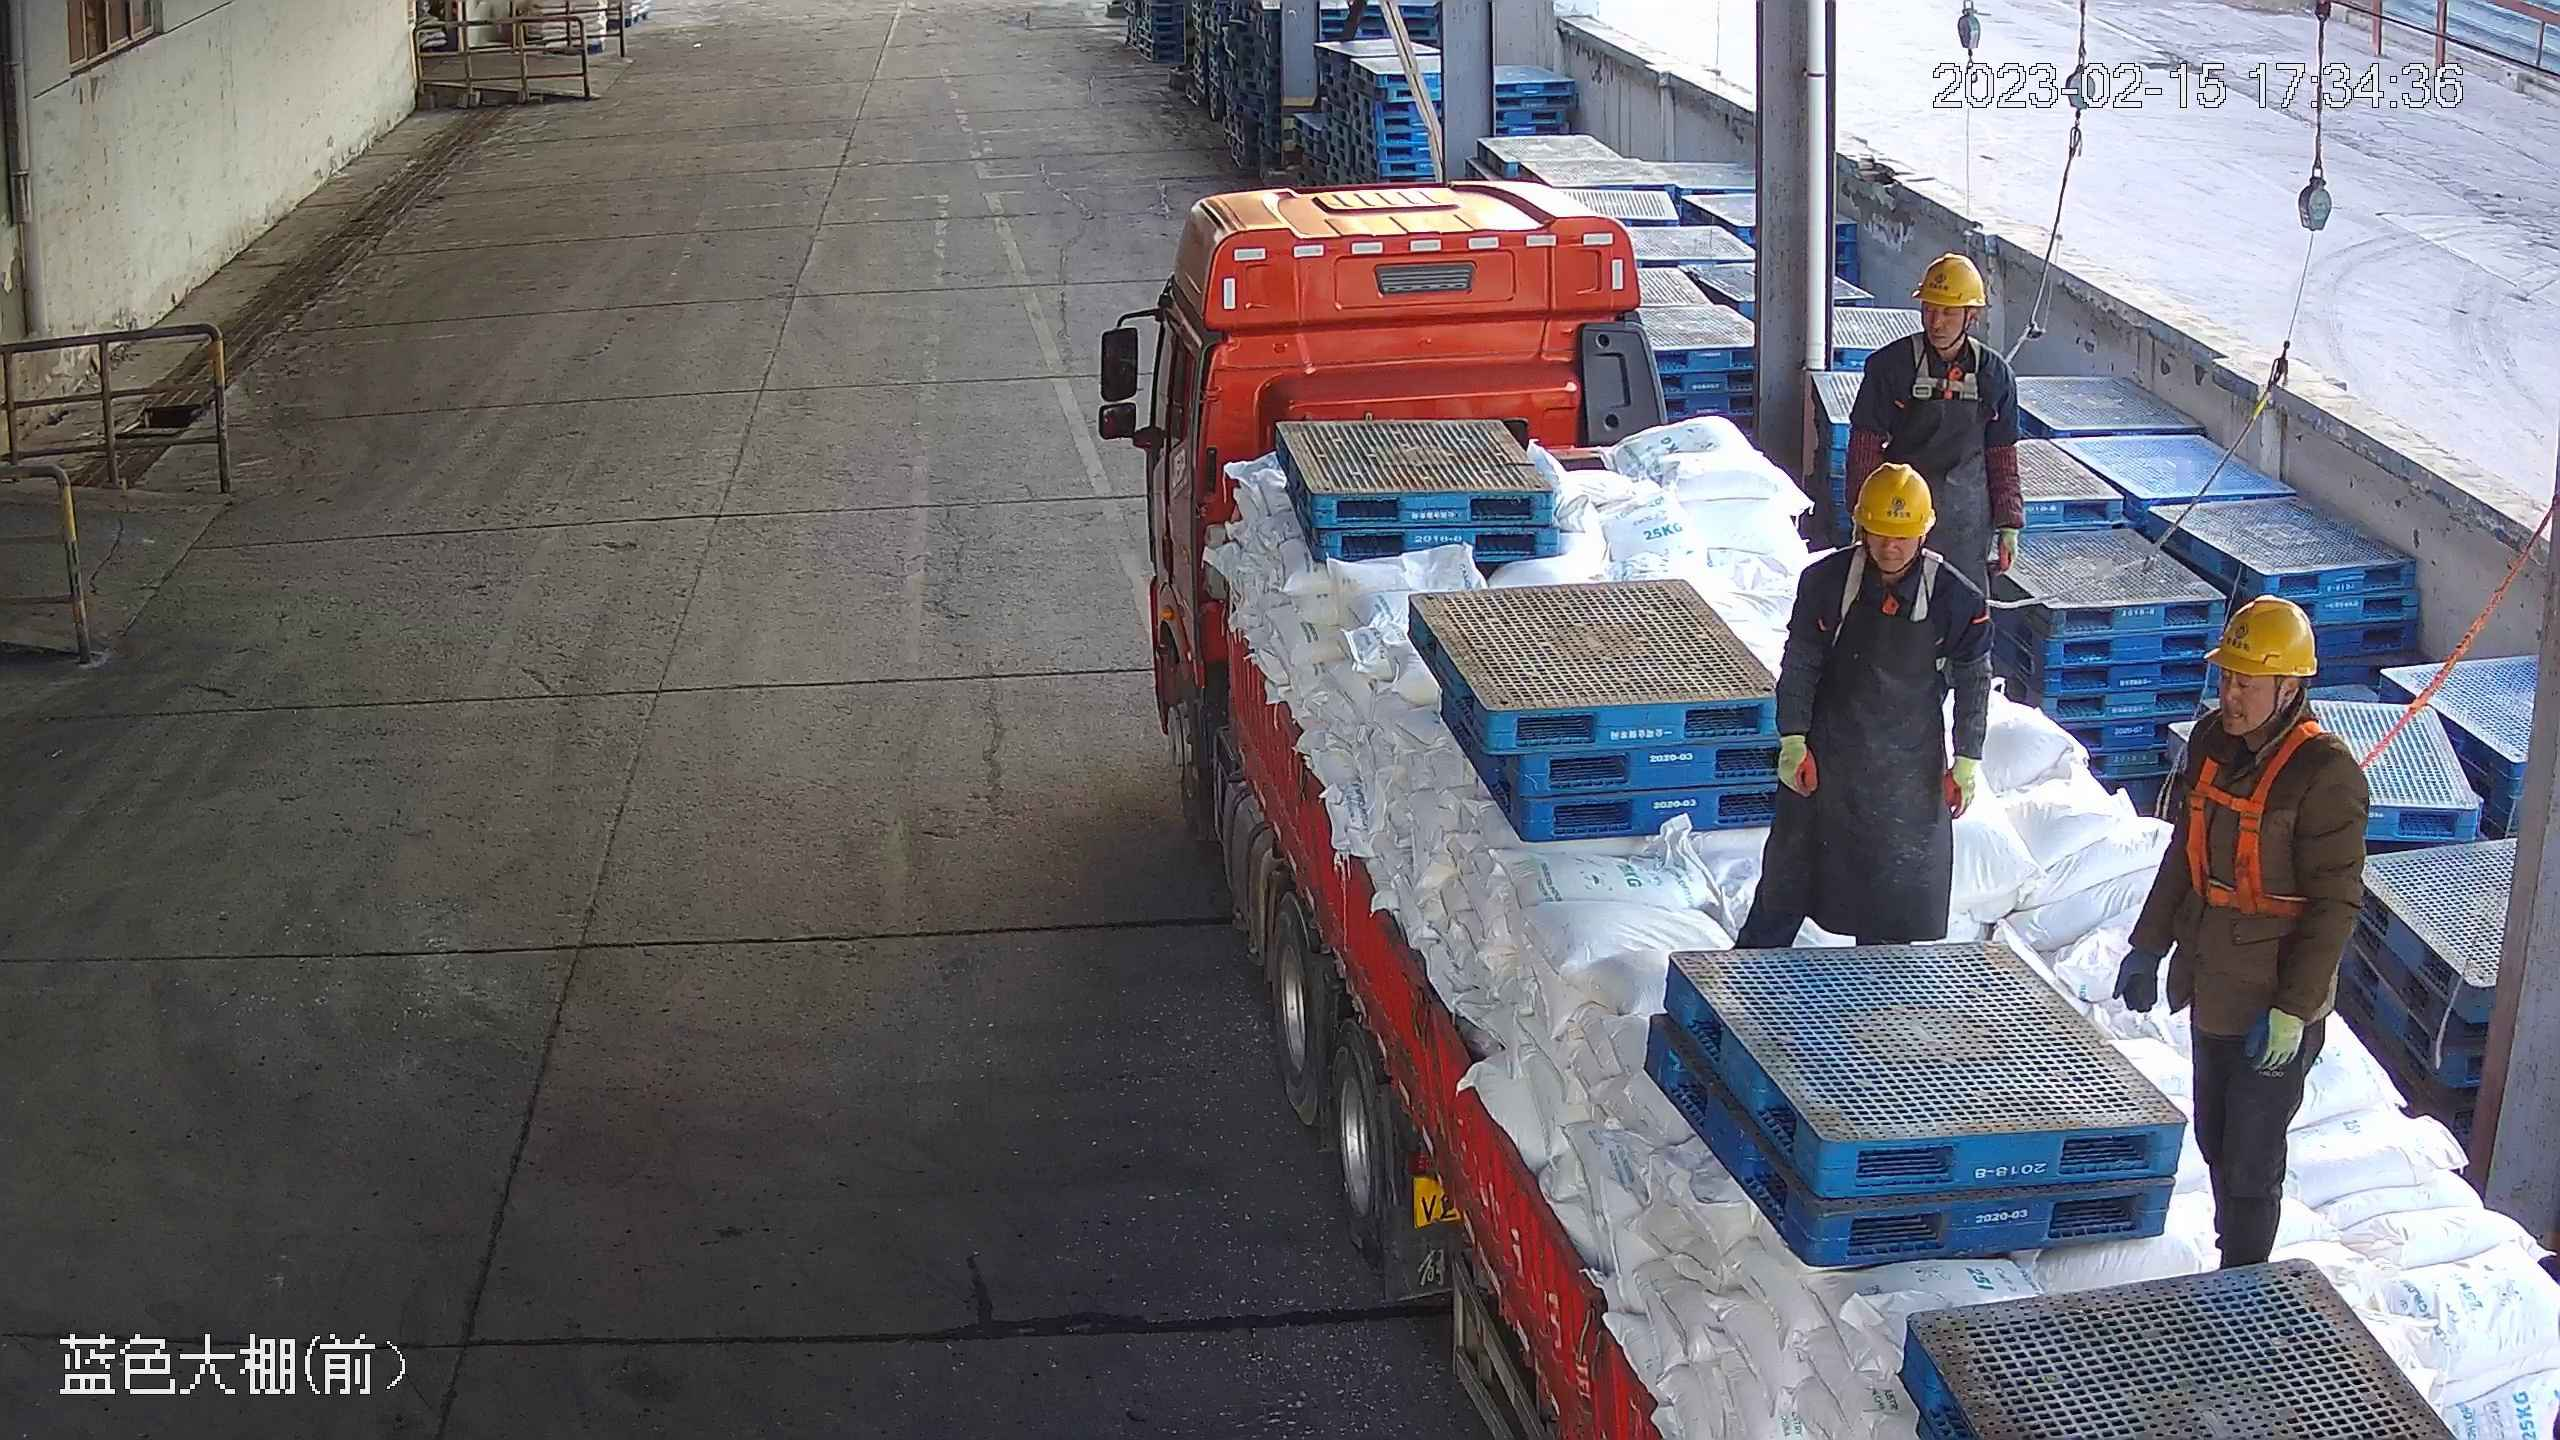belt: (2165, 708, 2374, 919), (1823, 532, 1996, 636), (1895, 322, 2030, 407)
head: (2176, 593, 2372, 804), (1791, 458, 1996, 637), (1861, 253, 2018, 385)
helmet: (2203, 593, 2321, 678), (1847, 459, 1935, 538), (1911, 253, 1988, 309)
people: (2109, 593, 2369, 1270), (1733, 459, 1995, 956), (1845, 254, 2025, 597)
truck: (1139, 182, 2560, 1440)
